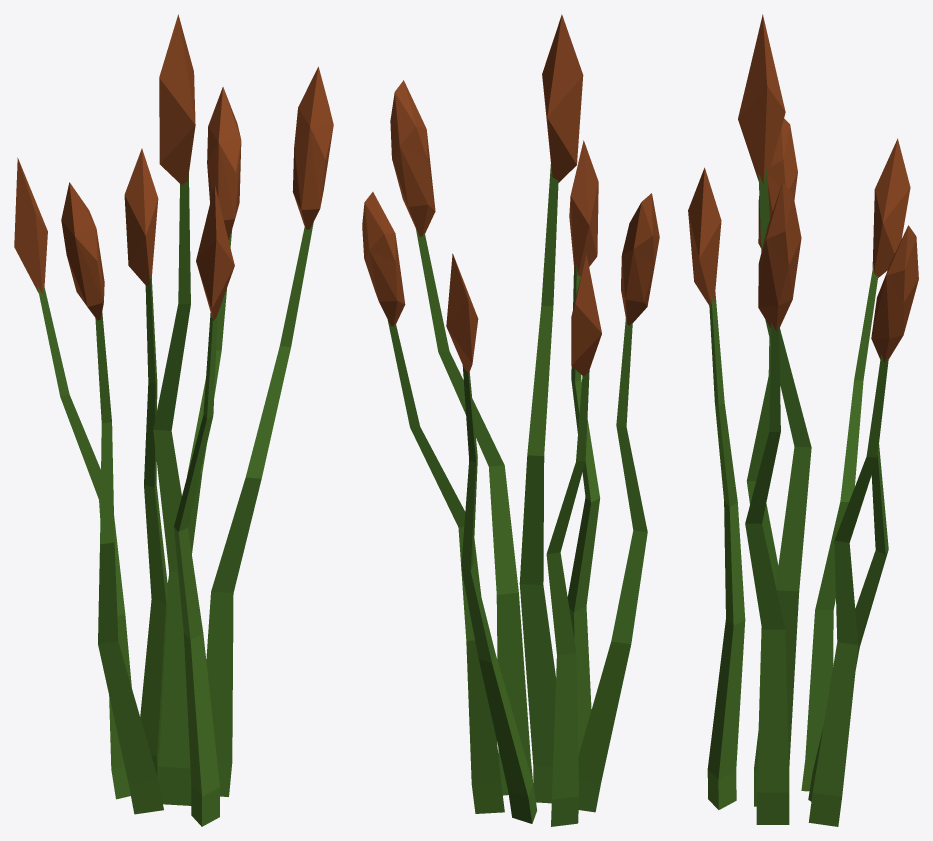
The model's file is flower1.obj.
3 renders of one model, left to right at view 1: azimuth 30°, elevation 25°; view 2: azimuth 150°, elevation 25°; view 3: azimuth 270°, elevation 25°, orthographic.
Visible parts, largest first — view 1: Reeds1_Cylinder.061; view 2: Reeds1_Cylinder.061; view 3: Reeds1_Cylinder.061.
Part boxes in pixels (box(x1,y1,x2,y2)): Reeds1_Cylinder.061: box(14, 14, 333, 826); Reeds1_Cylinder.061: box(362, 14, 659, 826); Reeds1_Cylinder.061: box(688, 14, 918, 826).
Size of the model in its own units: 0.5901 by 1.68 by 0.4453.
